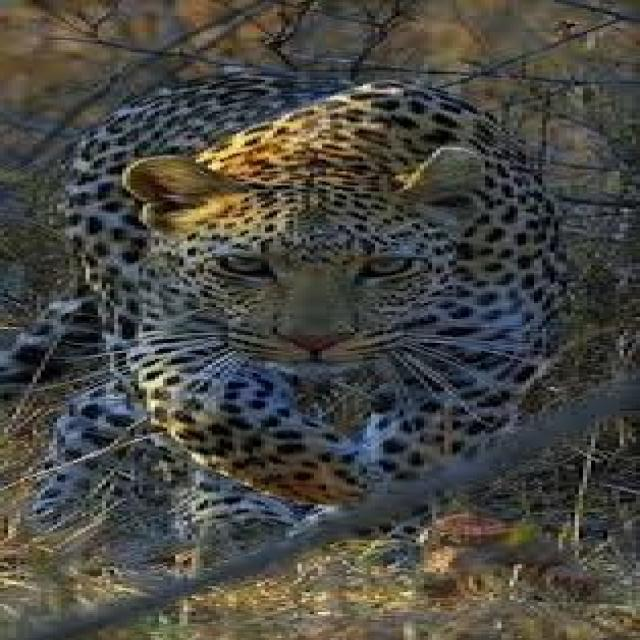Jaguar: (0, 68, 640, 578)
